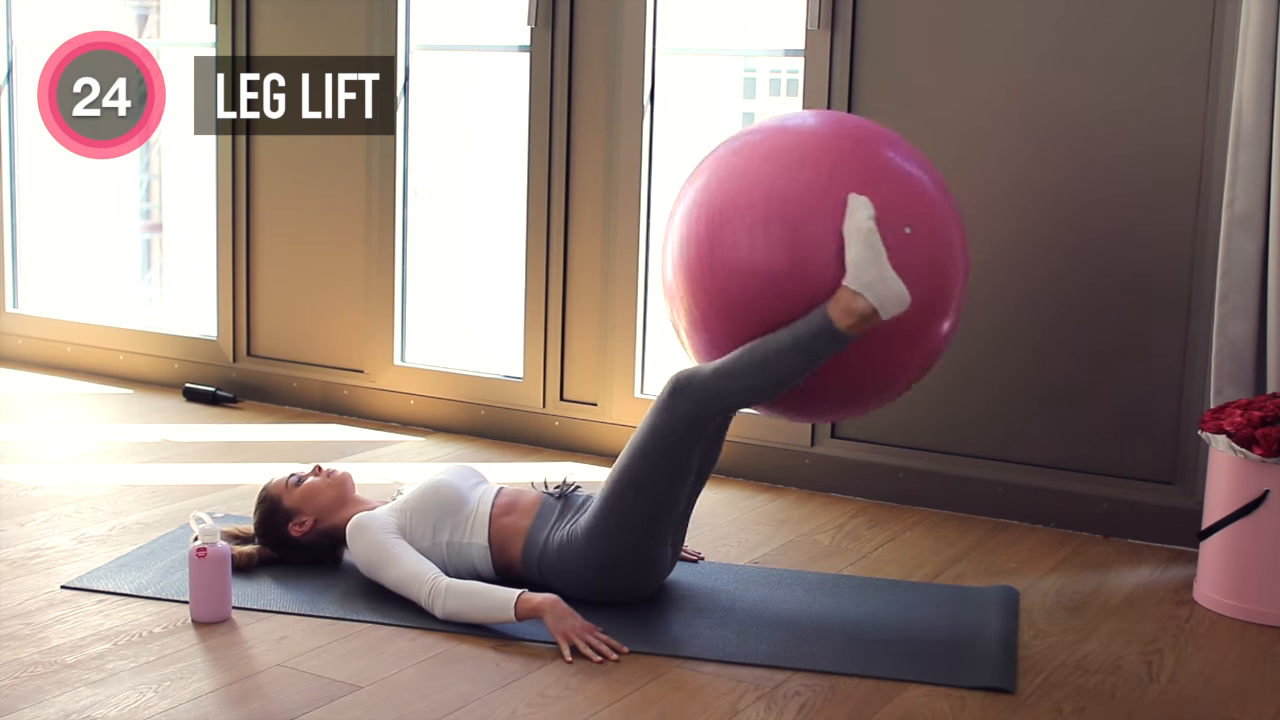yogaball: (657, 107, 978, 427)
